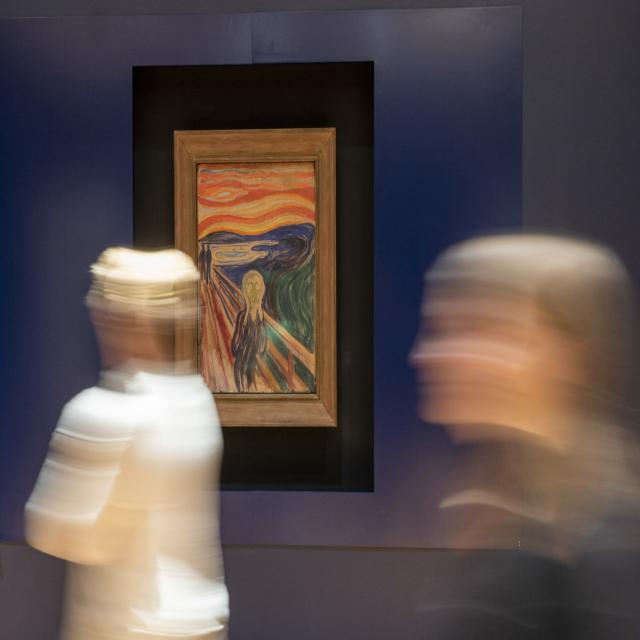Tablo: (196, 159, 317, 395)
